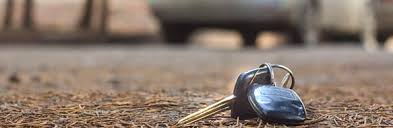keys: (169, 62, 307, 128)
